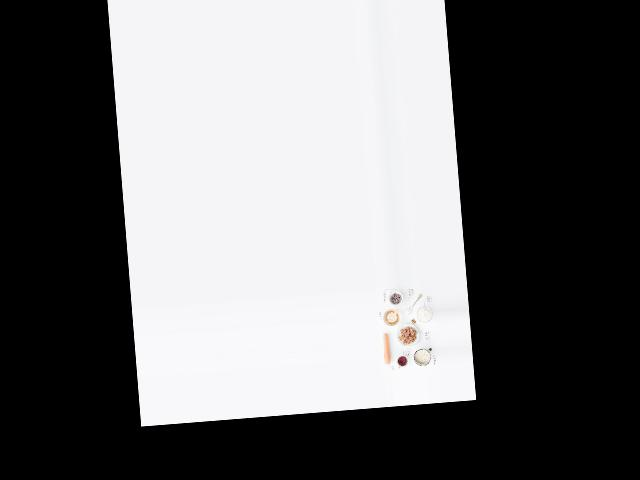carrot: (380, 329, 395, 367)
